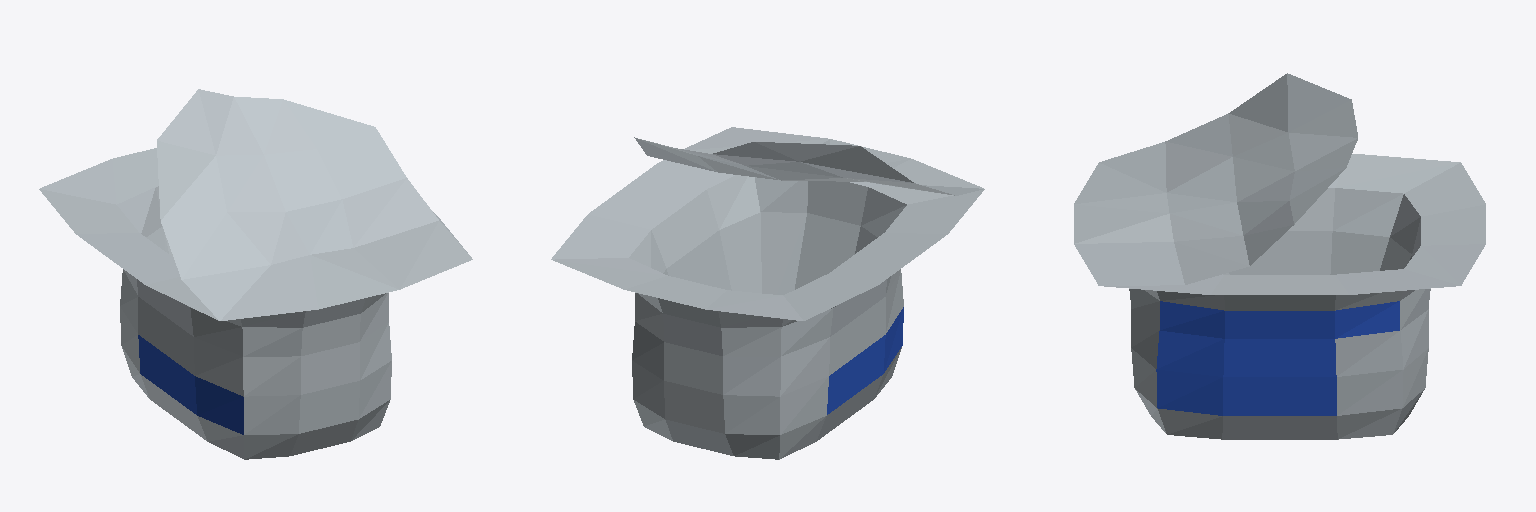
The model's file is yoghurt.obj.
The picture shows the model from 3 angles: view 1: azimuth 30°, elevation 25°; view 2: azimuth 150°, elevation 25°; view 3: azimuth 270°, elevation 25°; orthographic projection.
Visible parts, largest first — view 1: yoghurt1; view 2: yoghurt1; view 3: yoghurt1.
Part boxes in pixels (bbox=[...]): yoghurt1: bbox=[39, 89, 472, 459]; yoghurt1: bbox=[551, 127, 984, 459]; yoghurt1: bbox=[1074, 73, 1485, 439].
Size of the model in its own units: 0.4875 by 0.4674 by 0.5989.